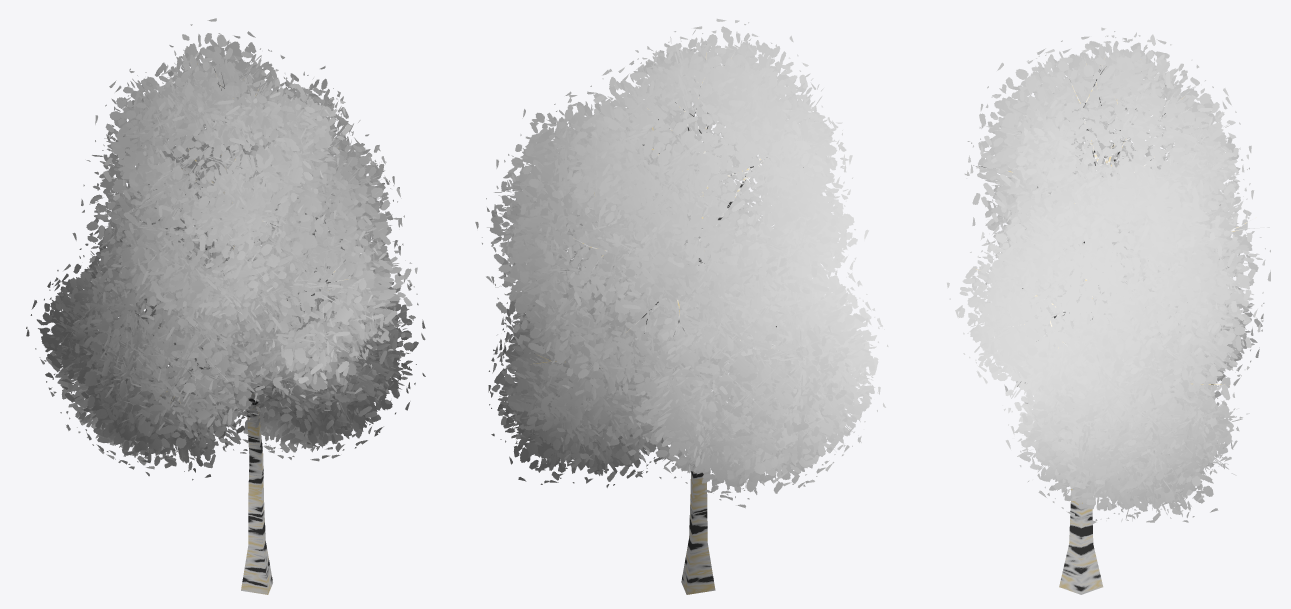
Rendered from BirchTree2.fbx.
3 renders of one model, left to right at view 1: azimuth 30°, elevation 25°; view 2: azimuth 150°, elevation 25°; view 3: azimuth 270°, elevation 25°, orthographic. The views are drawn at different scales.
Visible parts, largest first — view 1: Leaves2.003; view 2: Leaves2.003; view 3: Leaves2.003.
Part boxes in pixels (box(x1,y1,x2,y2)): Leaves2.003: box(26, 18, 425, 594); Leaves2.003: box(475, 18, 888, 594); Leaves2.003: box(947, 27, 1270, 594).
Bounding box in the file's own units: 1513 × 2148 × 1210.
2 materials, 1 textured.
